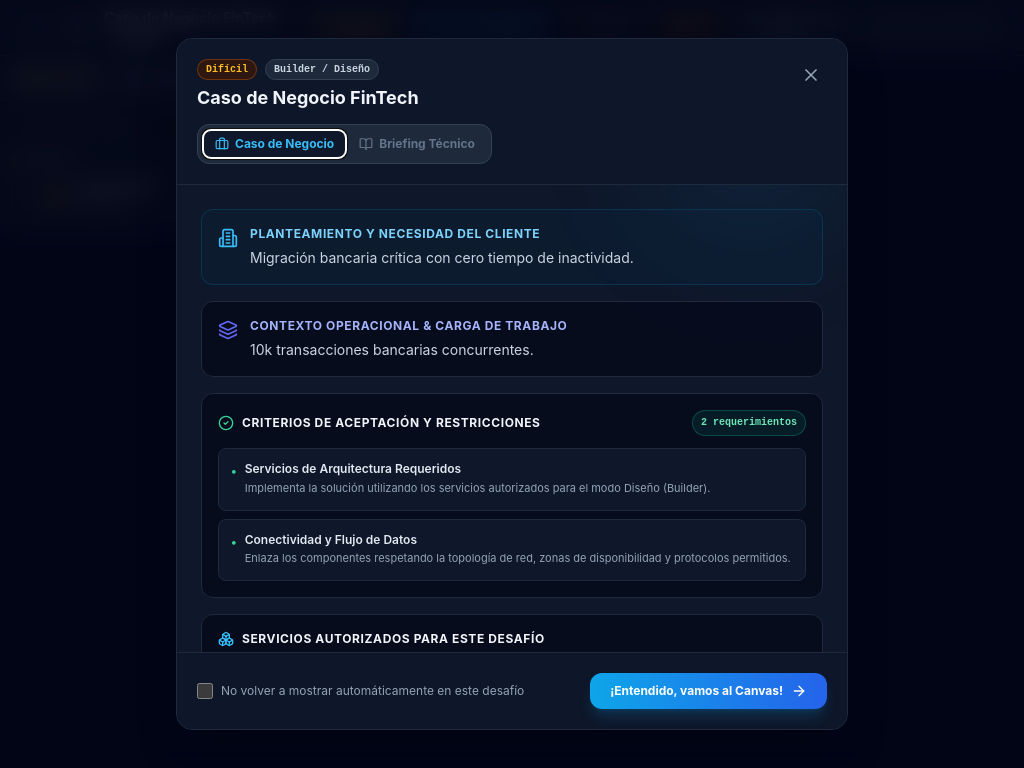
Test: ChallengePage › debe abrir automáticamente el Caso de Negocio al cargar por primera vez y permitir alternar con Briefing
expect the text "Migración bancaria crítica con cero tiempo de inactividad." is shown: met, box 250,249 -> 634,266
Click the tab with test id "modal-tab-briefing": (417, 144) 347,130 -> 487,158
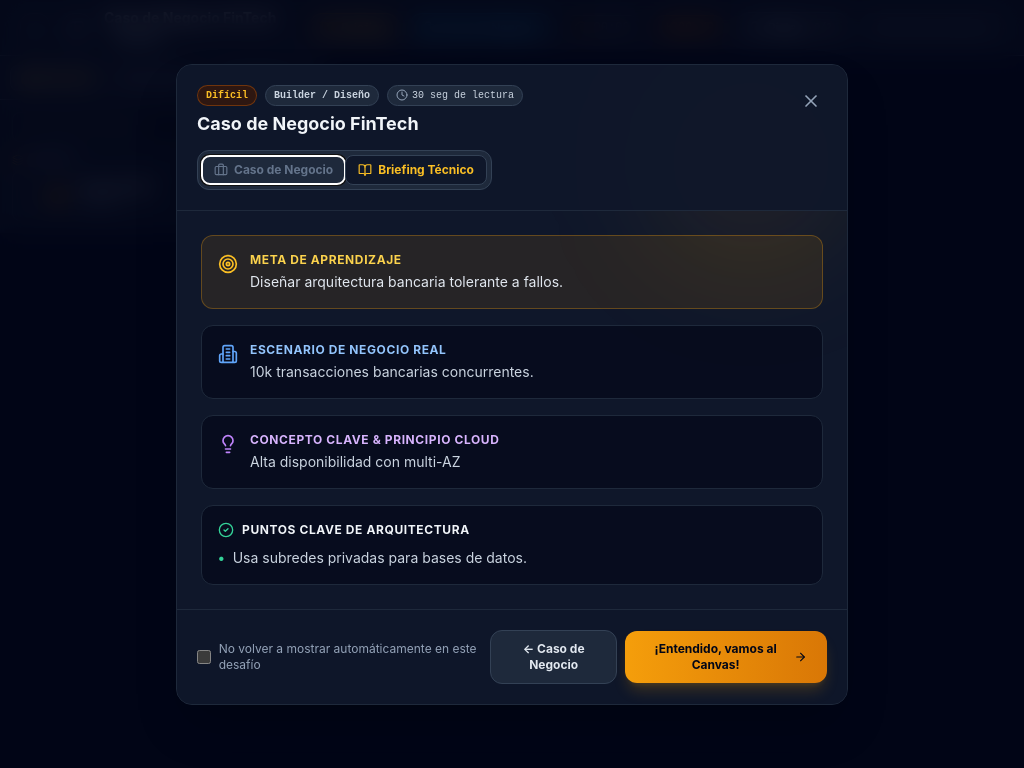
expect the text "Alta disponibilidad con multi-AZ" is shown: met, box 250,452 -> 460,470
Click the button with test id "close-challenge-context-modal": (811, 100) 795,84 -> 827,116
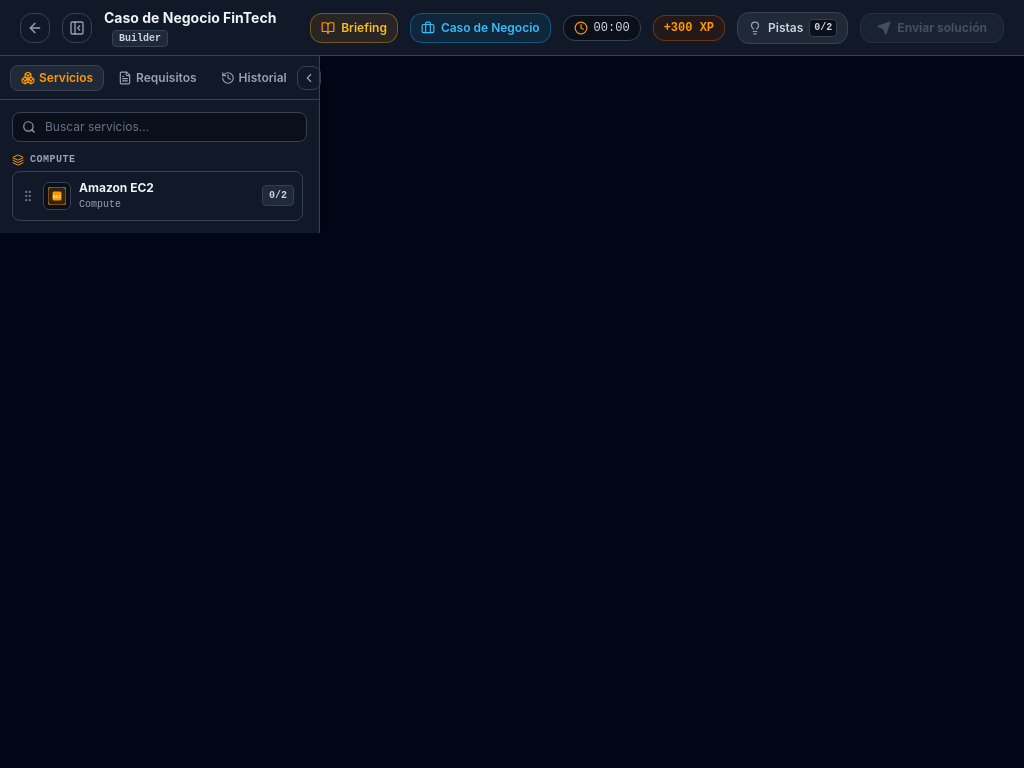
expect the dialog with test id "challenge-context-modal" is gone: met
Click the button with aria-label "abrir caso de negocio": (480, 28) 410,12 -> 551,42
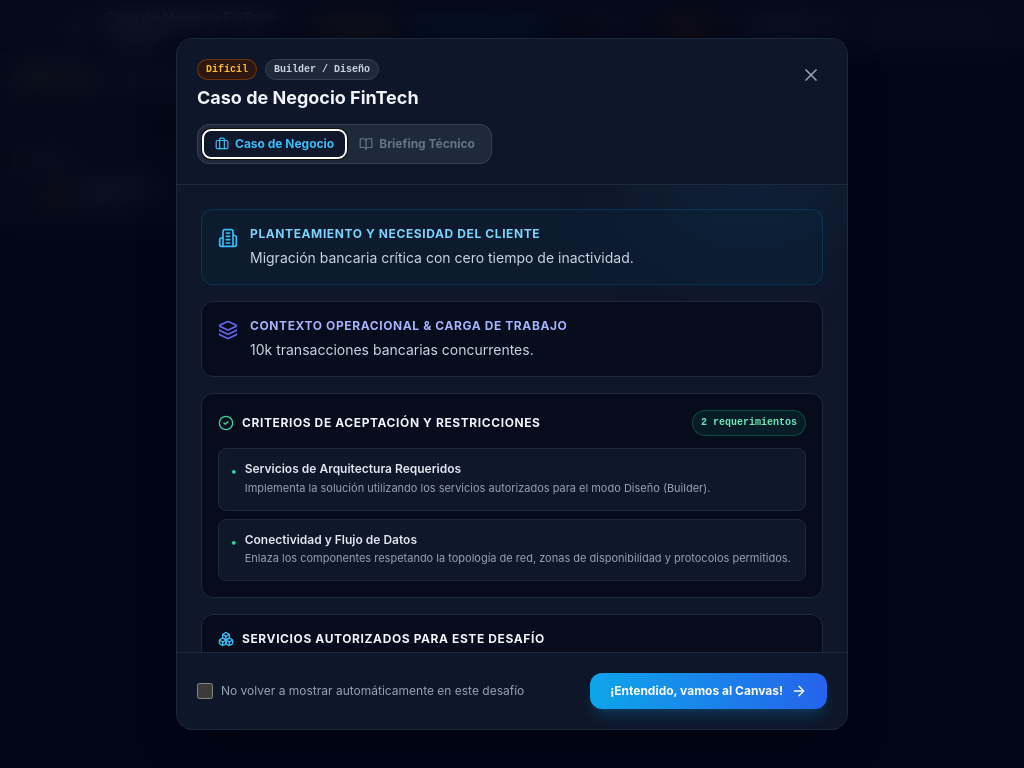
expect the dialog with test id "challenge-context-modal" is shown: met
